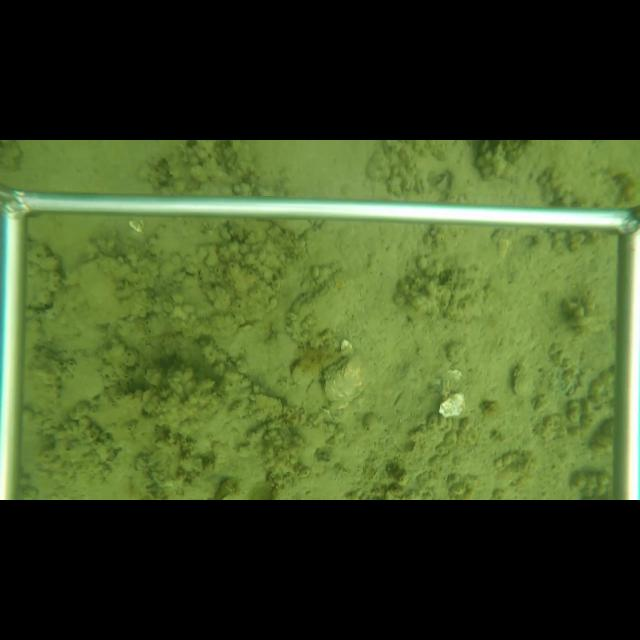Oyster-Closed: (282, 270, 366, 350), (67, 252, 145, 326), (317, 349, 363, 406), (511, 359, 535, 398)
